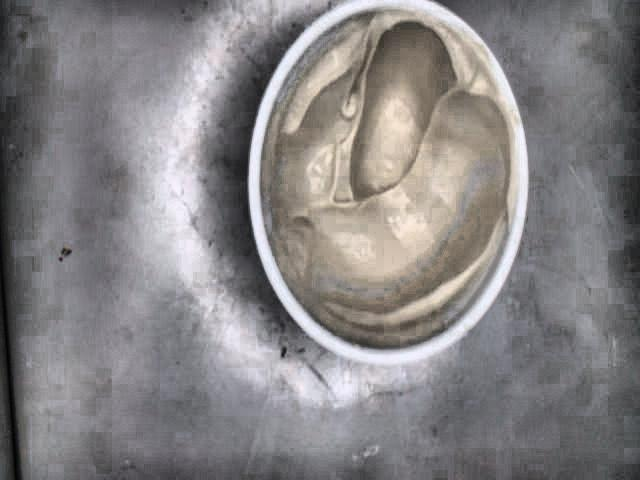Almennt: (249, 0, 531, 363)
